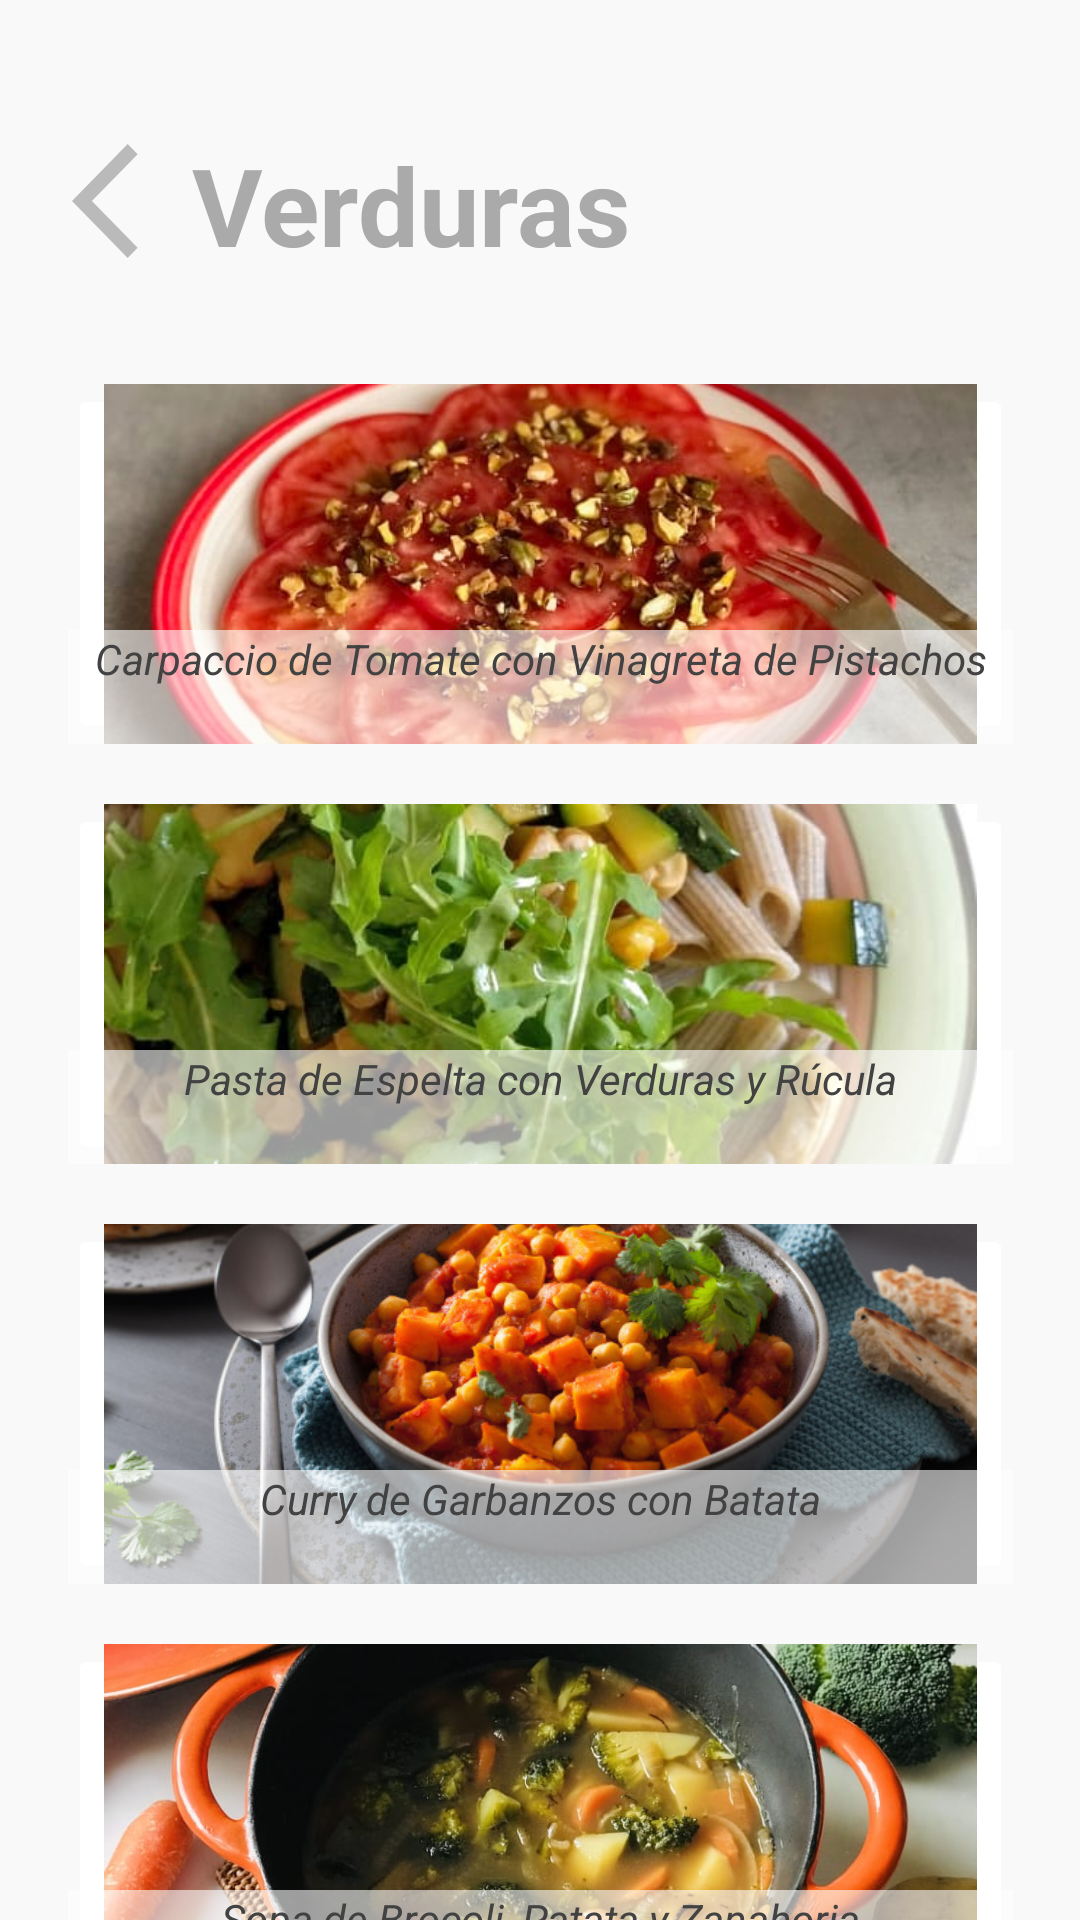

Where icons sit on this 1080px x 1920px app screen, as [x1,y1,x2,y2]:
flecha: [72,144,137,258]
